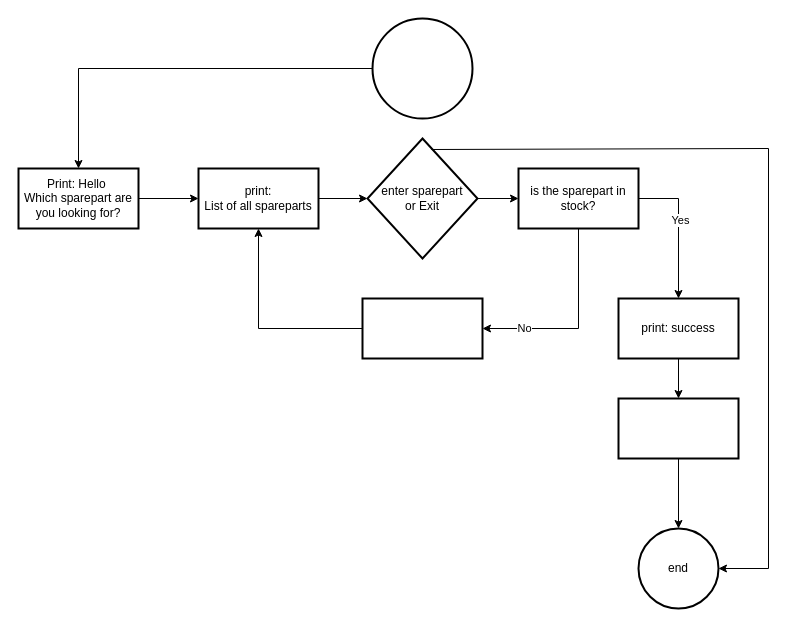
Image size: 794x626. Some labels were removed from this diagram. Each missing label, with the centre of its shape:
deliver sparepart: (x=678, y=428)
Print: failure, select new part: (x=422, y=328)
Start: (x=422, y=68)
